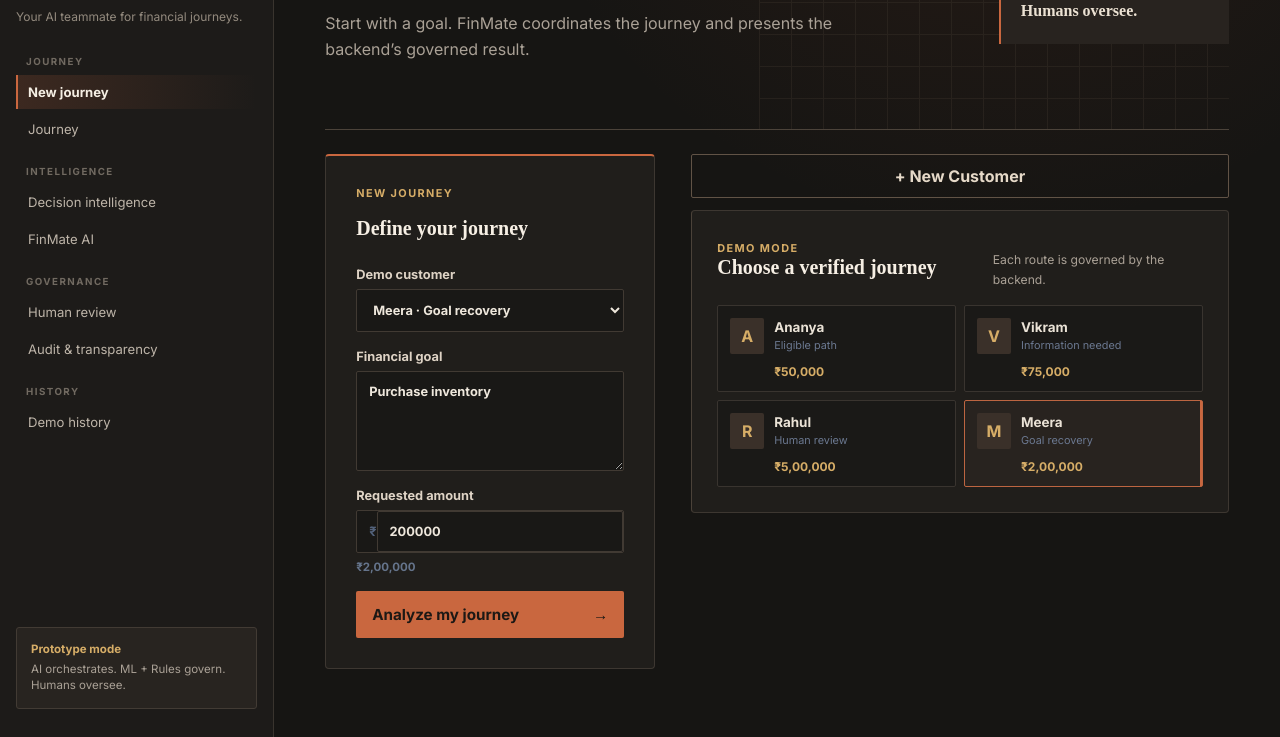
Test case: FinMate journey UI › renders returned required actions for missing information
(page scrolled)
Click the button "Analyze my journey →": (490,614) [356, 591, 624, 638]
(page scrolled)
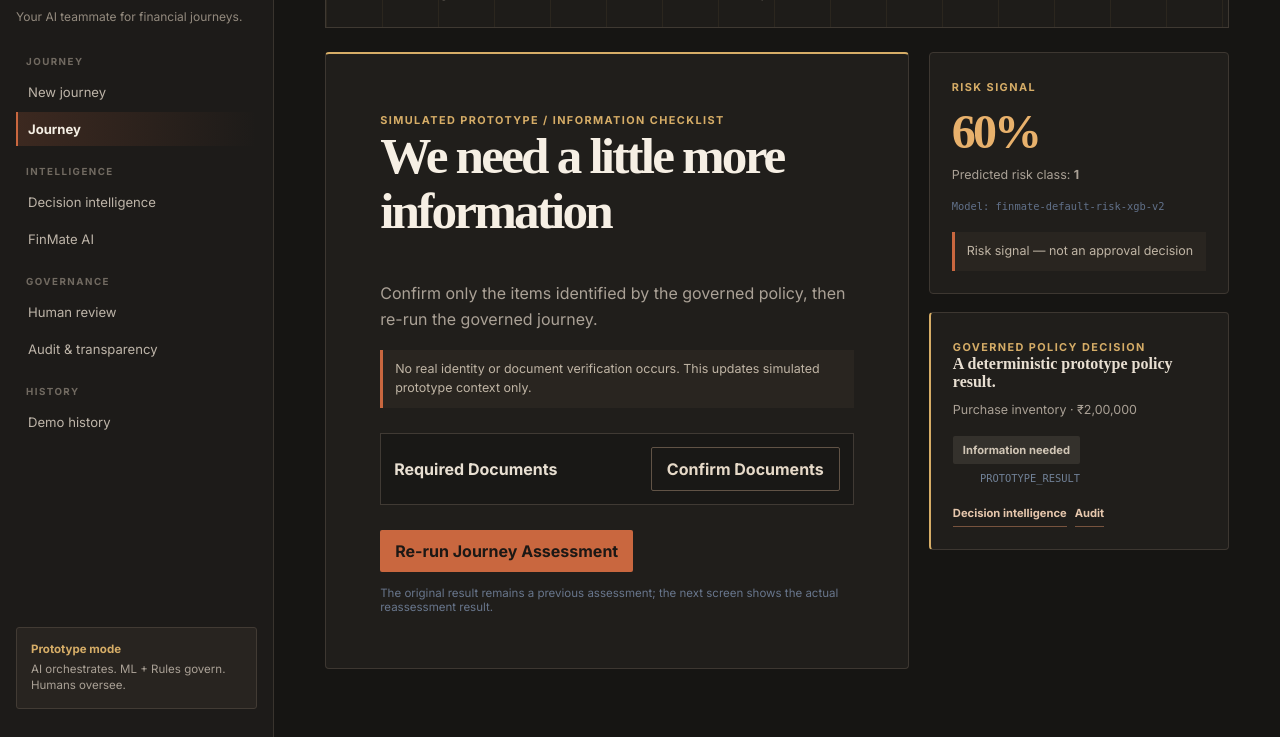
expect the heading "We need a little more information" is shown: met, box [380, 128, 854, 239]
expect the button "Confirm Documents" is shown: met, box [651, 447, 840, 491]
